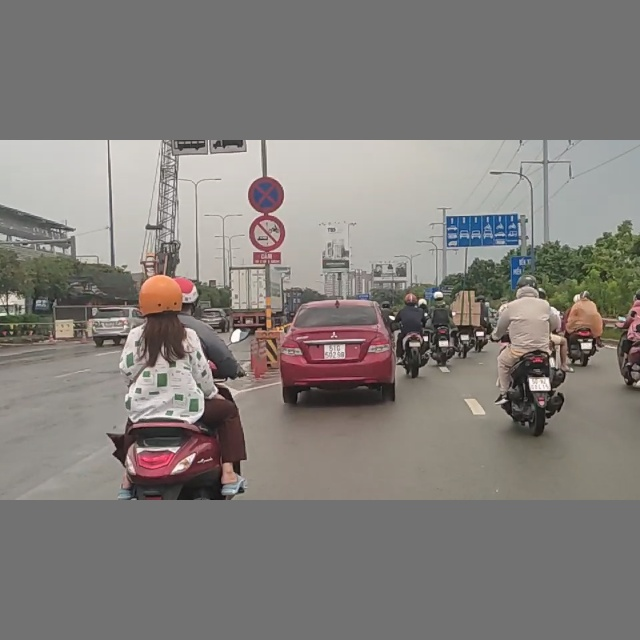P.130: (249, 177, 284, 212)
